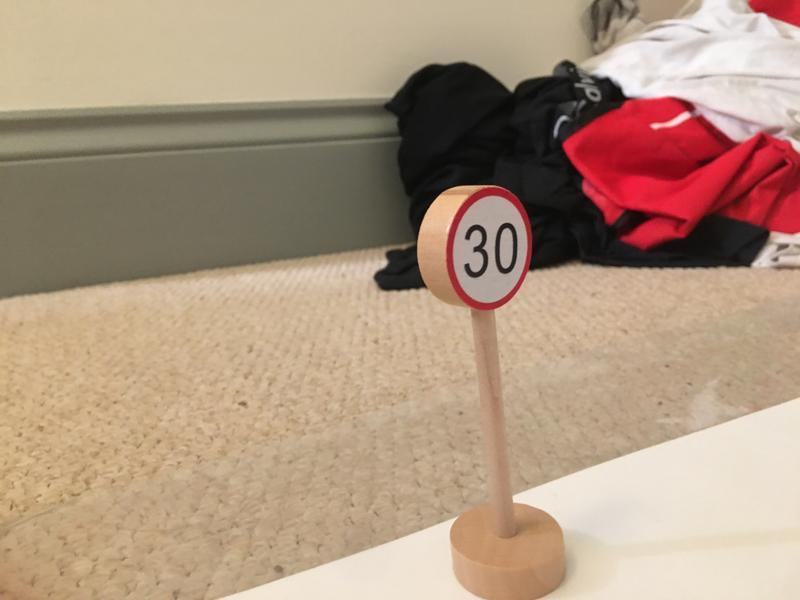Traffic_Sign_30: (446, 188, 527, 308)
